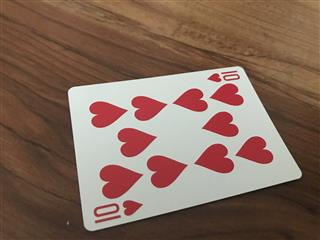TenOfHearts: (65, 64, 302, 232)
